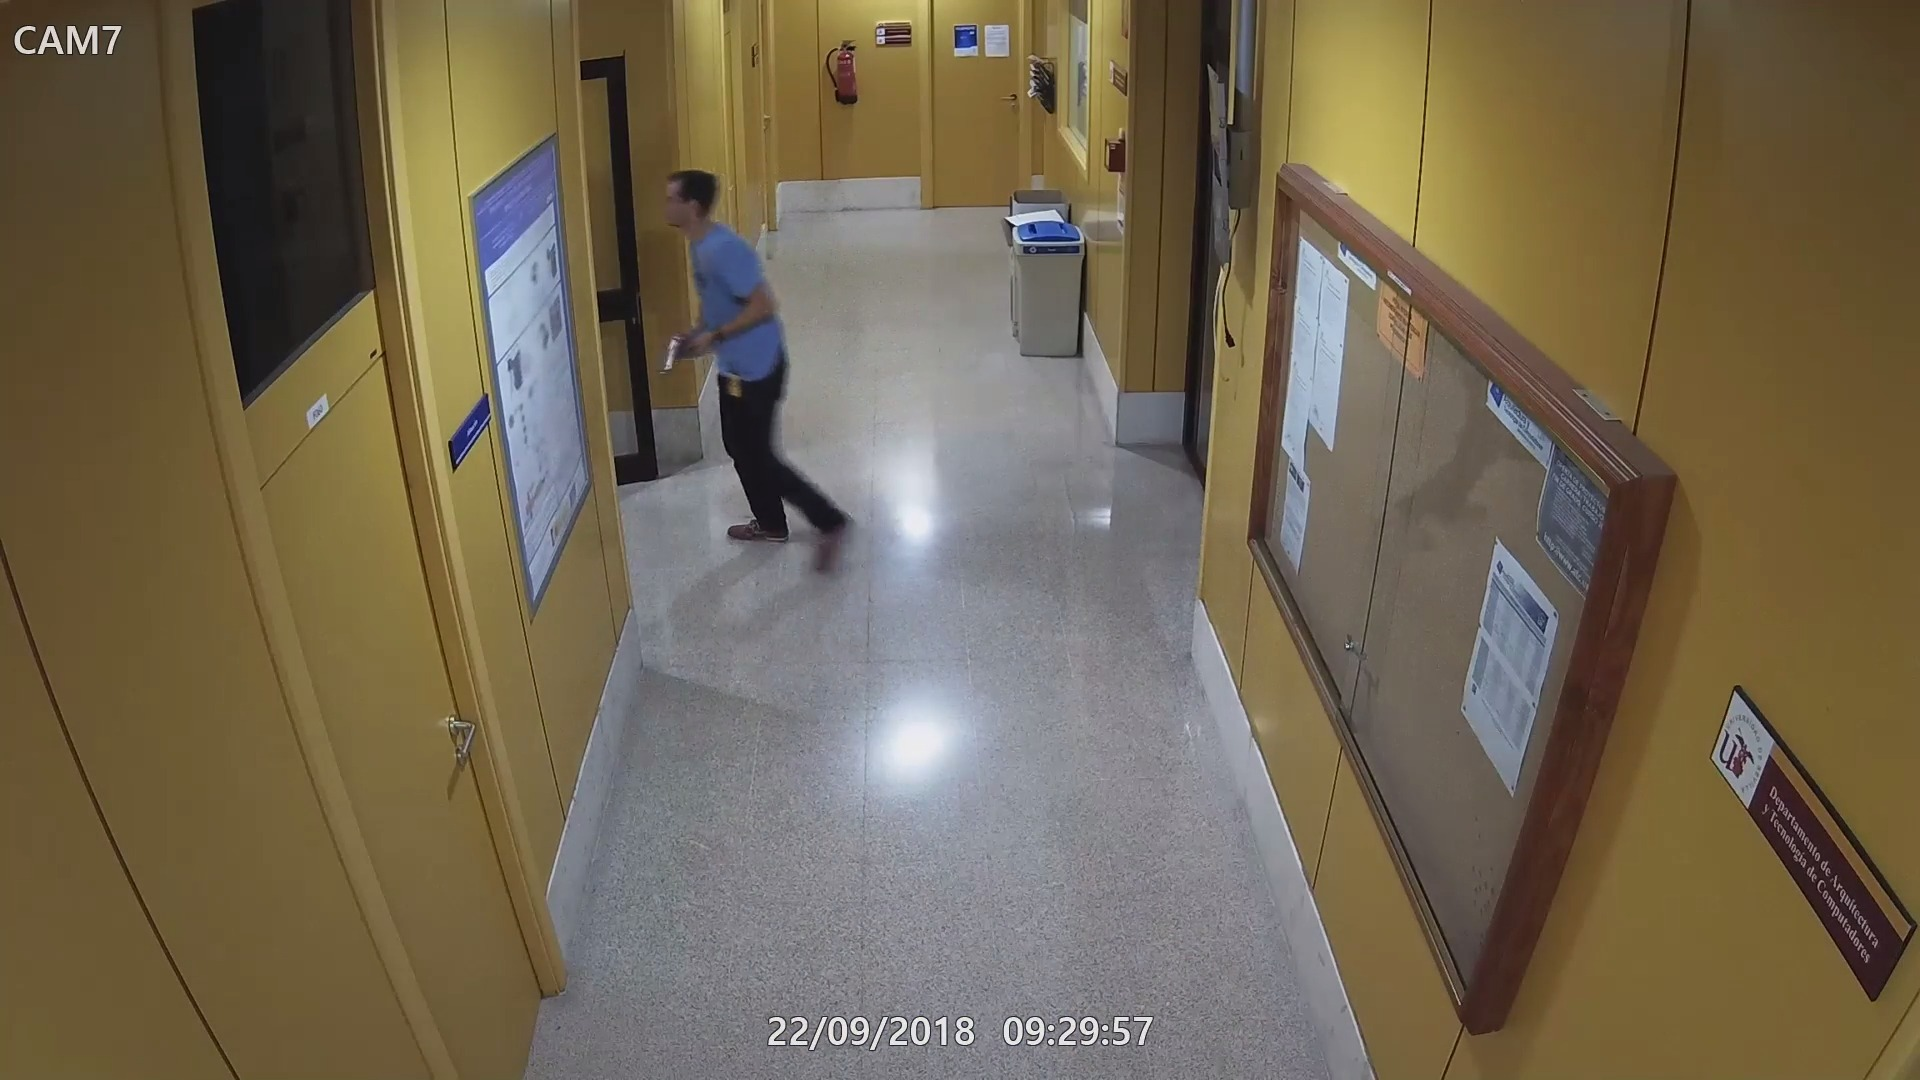knife: (675, 328, 720, 361)
pistol: (655, 330, 708, 378)
